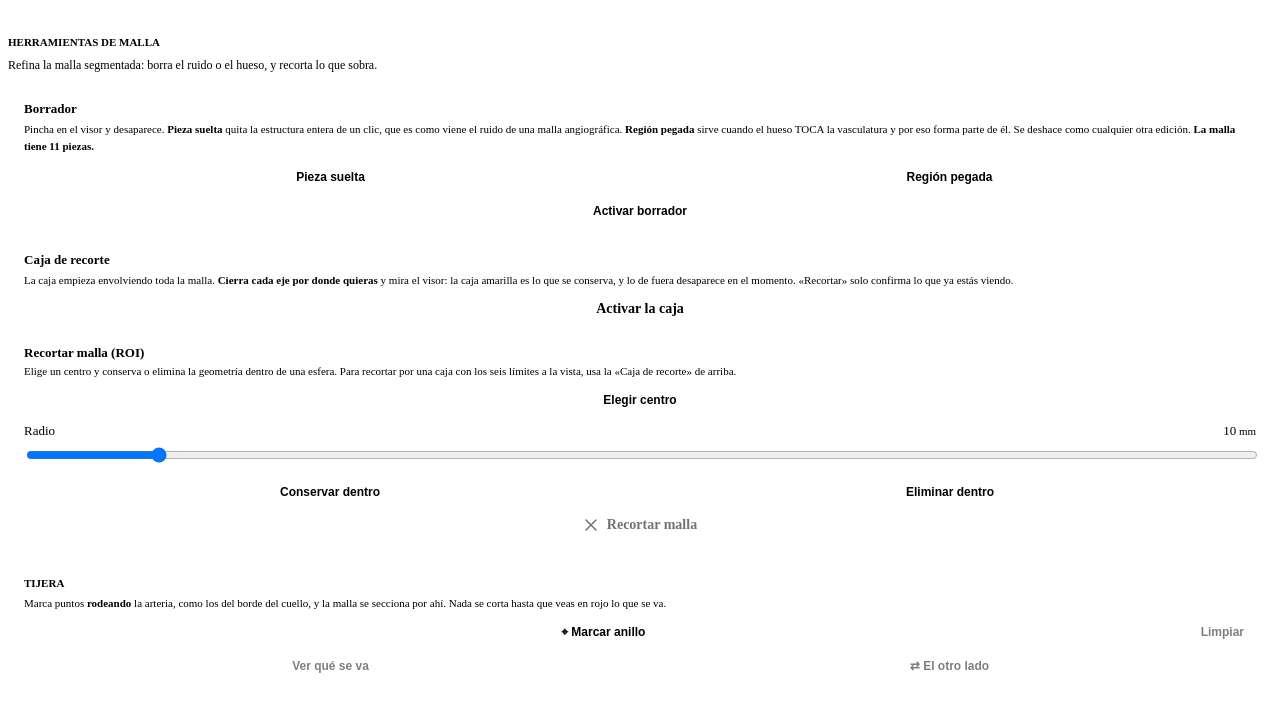
la caja de recorte › se puede cancelar y la caja desaparece
This screenshot has width=1280, height=717.
Click the button "Activar la caja" at (640, 308), box 24,300 -> 1256,316
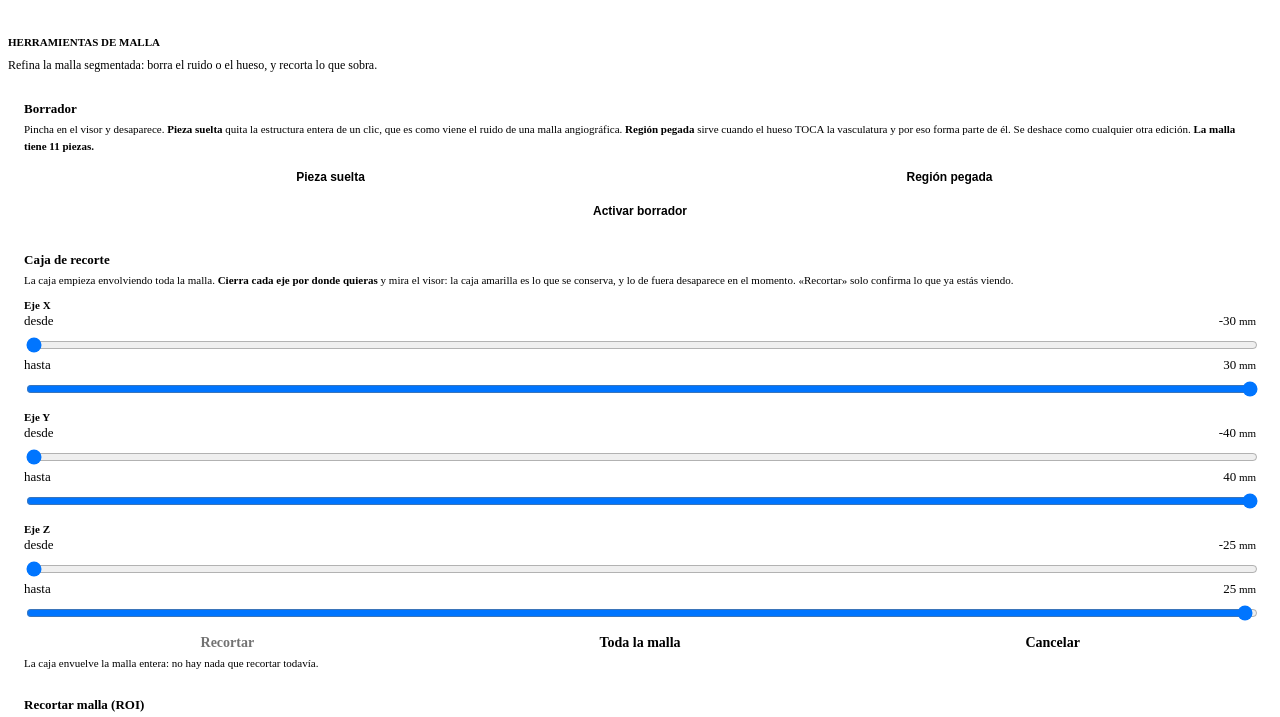
Click the button "Cancelar" at (1053, 642), box 849,634 -> 1256,650
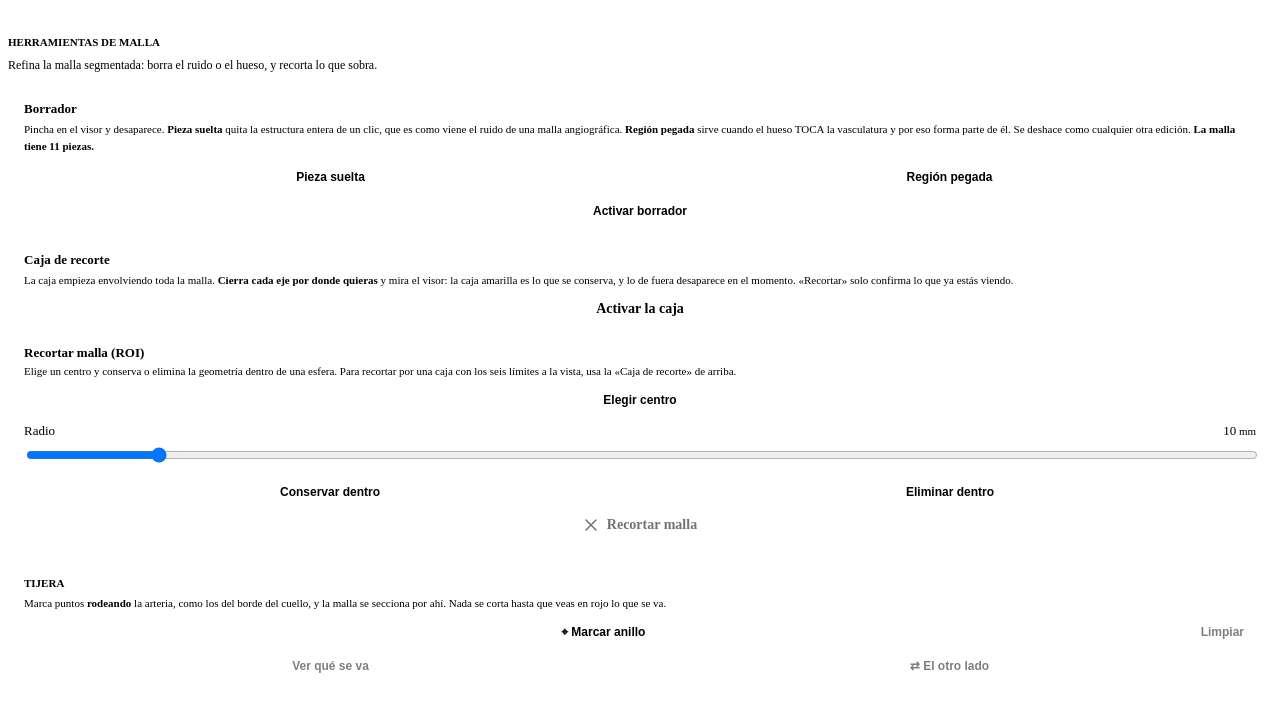
Expected: the text "Eje X" is gone
